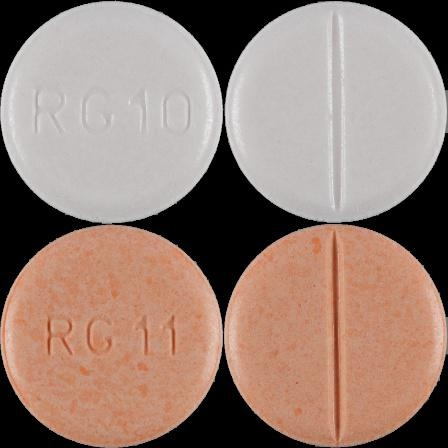63304-539: (0, 0, 224, 224)
